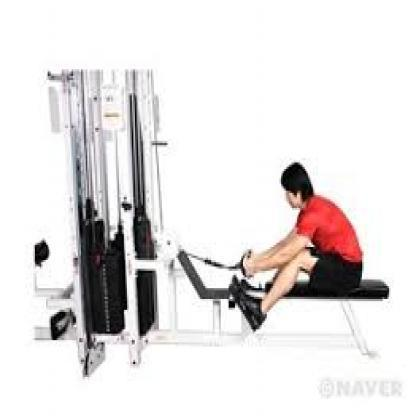Seated Cable Rows: (28, 58, 393, 380)
